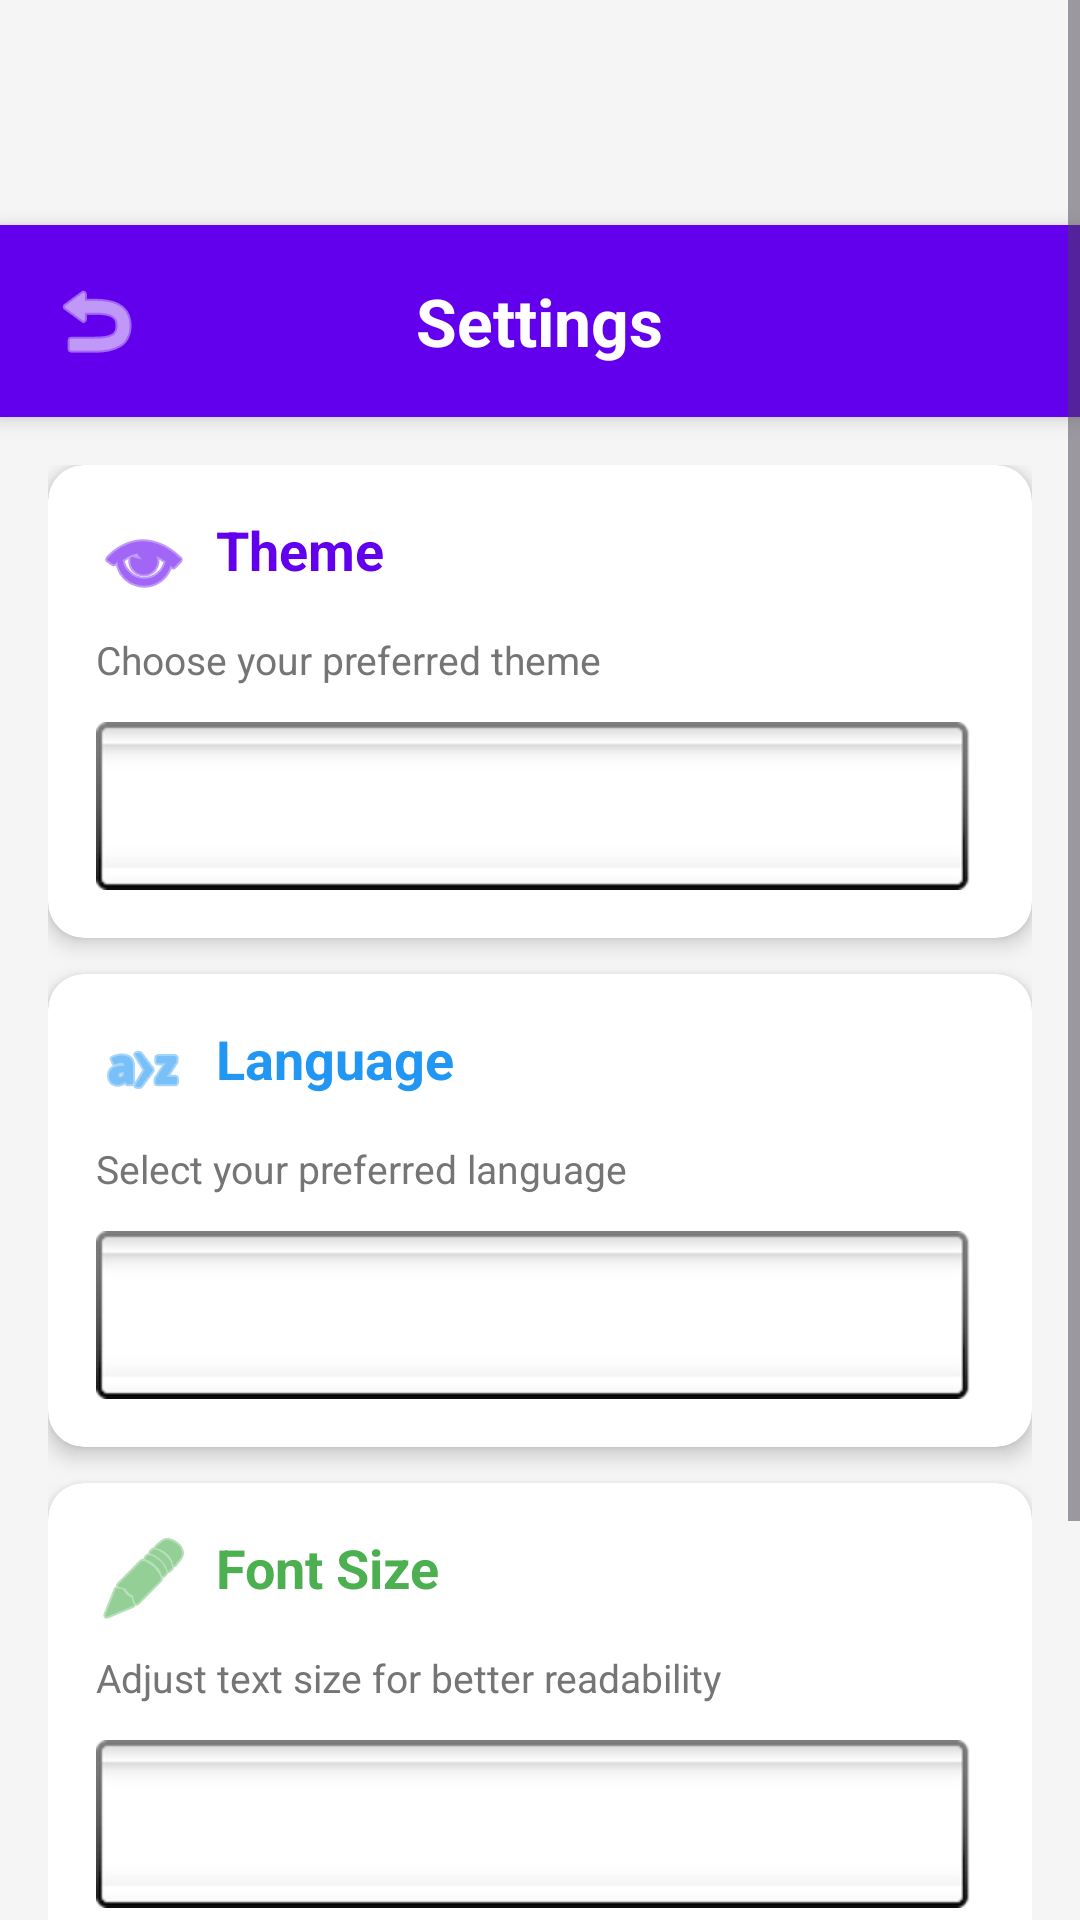

Locate icon controls on the screen. Image size 1080×1920, boxes as rect(x1, y1, x2, y2).
Back: rect(63, 290, 132, 353)
